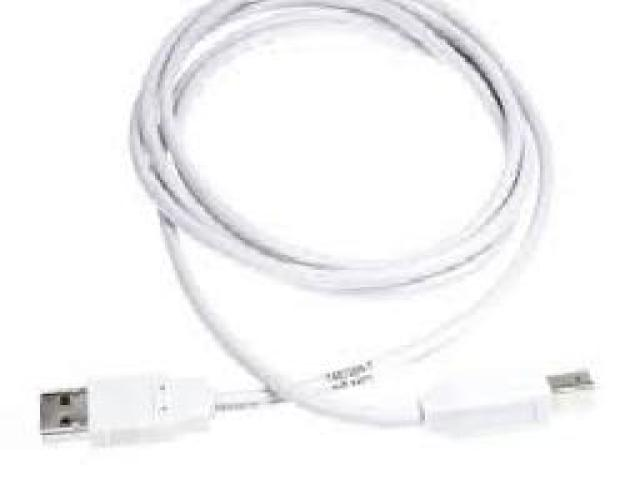wire: (88, 0, 596, 437)
